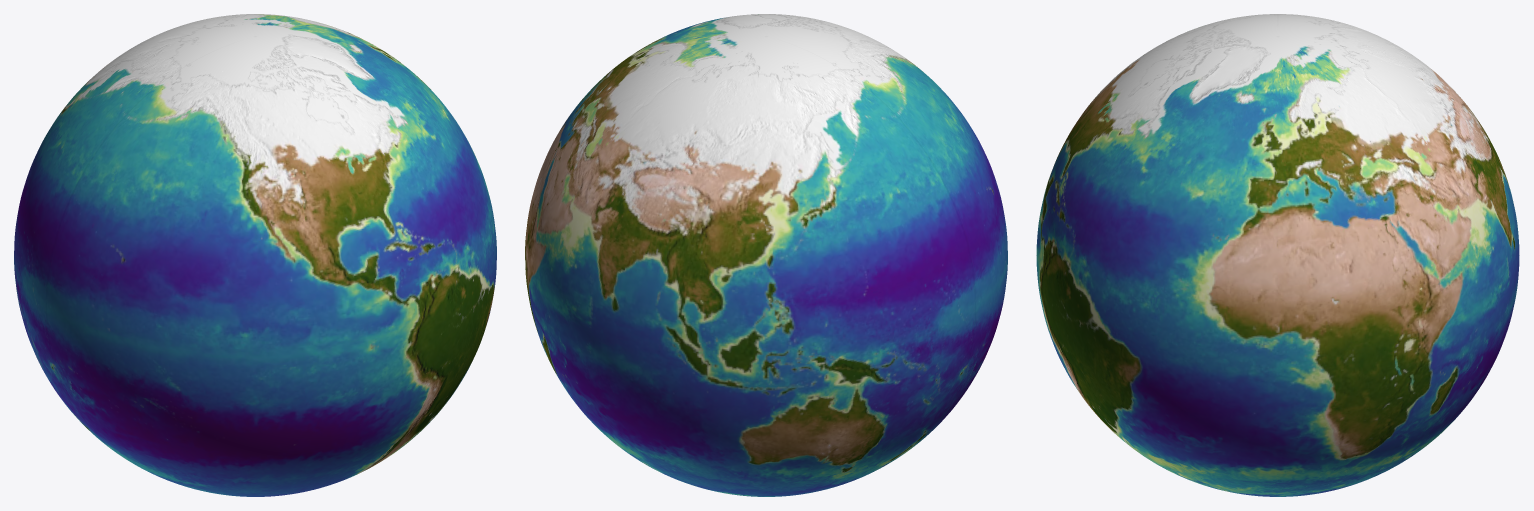
The model's file is biosphere5y.glb.
3 views of the same model, side by side, from view 1: azimuth 30°, elevation 25°; view 2: azimuth 150°, elevation 25°; view 3: azimuth 270°, elevation 25° (orthographic).
Visible parts, largest first — view 1: Sphere; view 2: Sphere; view 3: Sphere.
Part boxes in pixels (x1,y1,x2,y2): Sphere: [14, 14, 496, 496]; Sphere: [525, 14, 1007, 496]; Sphere: [1036, 14, 1519, 496].
Size of the model in its own units: 3 by 3 by 3.
Materials: 1 (1 with a texture image).
